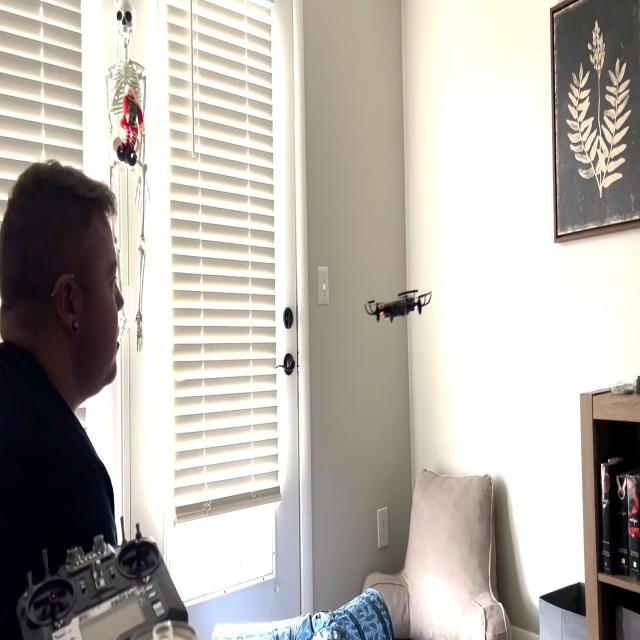drone: (362, 281, 444, 335)
